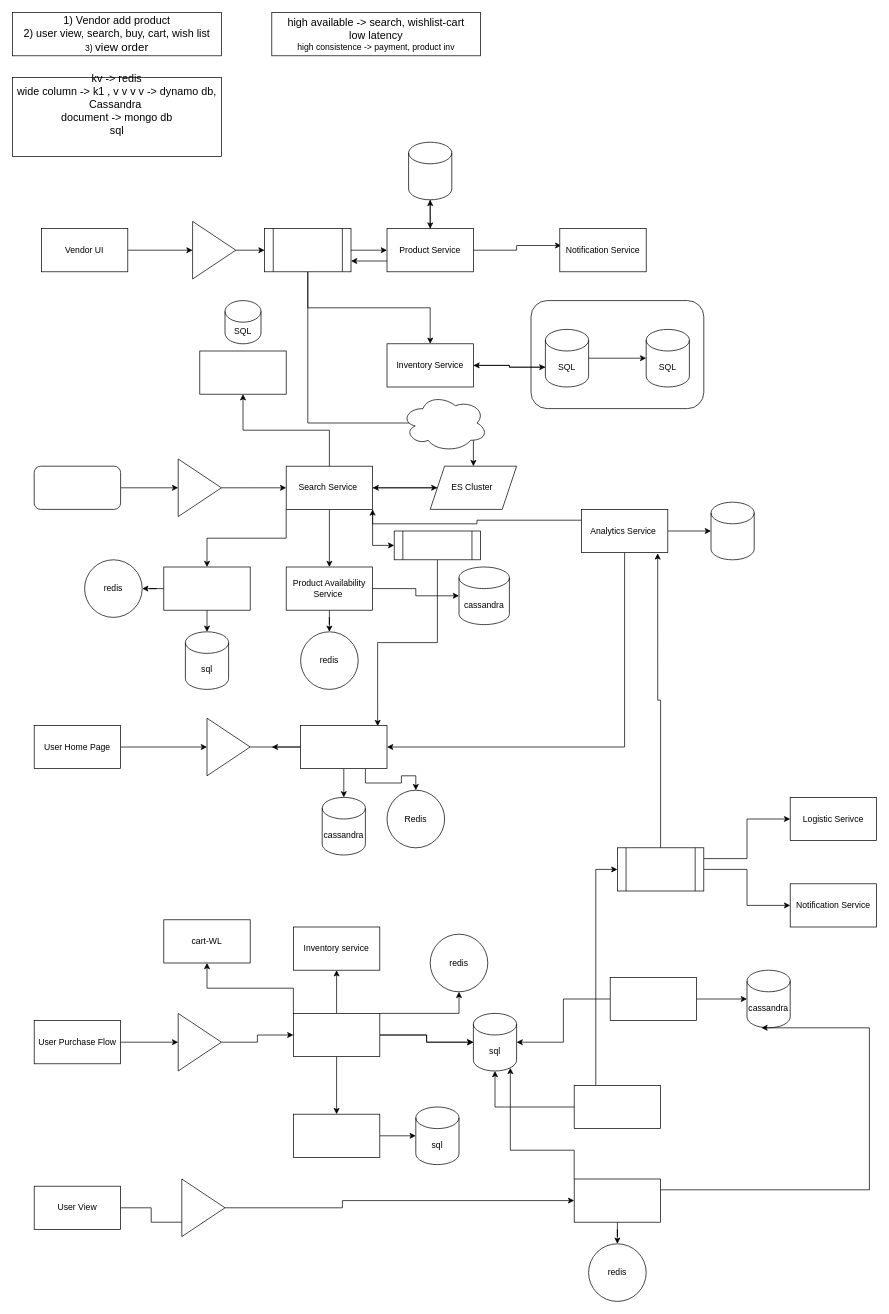
Image size: 889x1314. Some labels were removed from this diagram. Here are the shapes that lost their labels. From the top down, the box of each, then its label:
(408, 141, 452, 200): mongo
(192, 221, 236, 279): LB
(264, 228, 351, 272): Kafka/ SQS
(199, 350, 286, 394): User Service
(530, 300, 704, 409): M/S
(401, 393, 488, 452): consumers
(33, 465, 121, 509): Search UI
(393, 530, 481, 560): kafka
(710, 501, 754, 560): Hadoop/ AWS Redshift
(163, 566, 250, 610): cart and WL Service
(300, 725, 387, 769): Recommendation Service
(609, 977, 697, 1021): Archival Service
(293, 1013, 380, 1057): order
(573, 1085, 661, 1129): Order Processing Service
(293, 1113, 380, 1157): payment service
(573, 1178, 661, 1222): view order service
